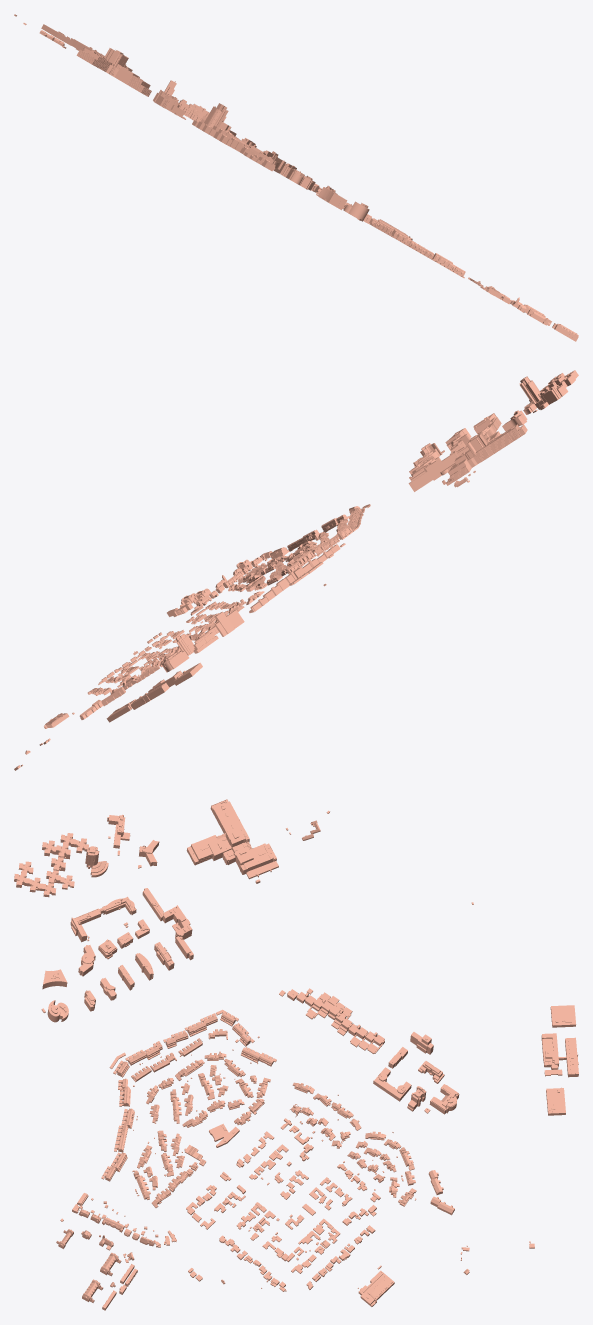
3 views of the same model, one above another, from view 1: azimuth 30°, elevation 25°; view 2: azimuth 150°, elevation 25°; view 3: azimuth 270°, elevation 25° (orthographic). The views are drawn at different scales.
Size of the model in its own units: 1021 by 790 by 1249.
